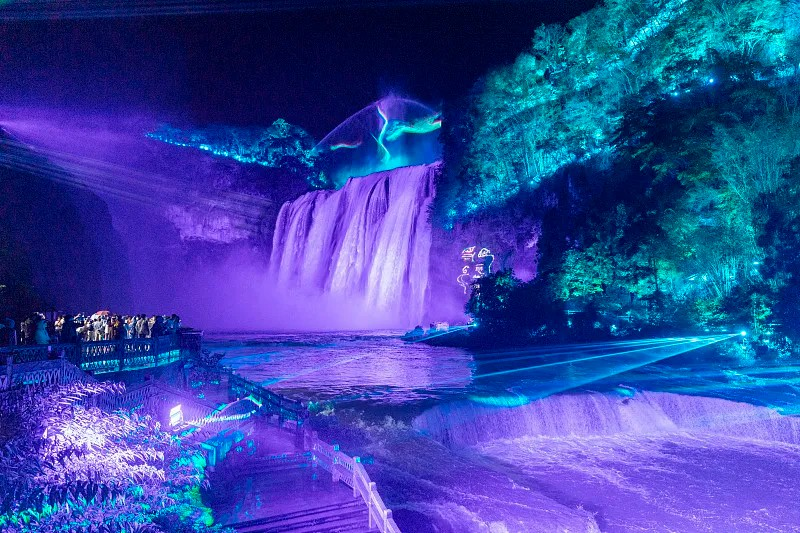Huangguoshu: (266, 161, 440, 331)
